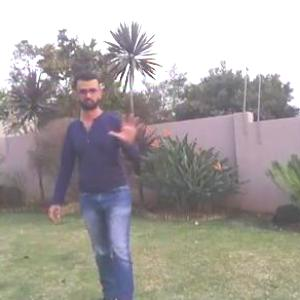follow_hand: (106, 108, 147, 145)
